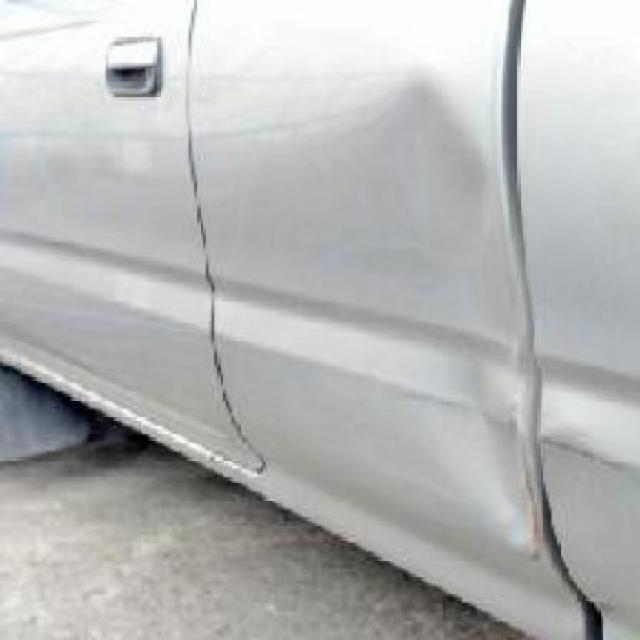dent-or-scratch: (192, 78, 558, 537)
